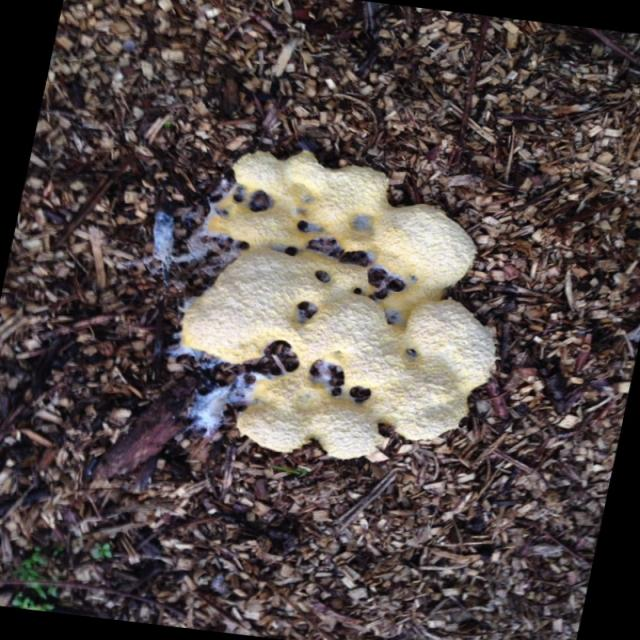Dog_vomit_slime_mold: (165, 151, 492, 501)
